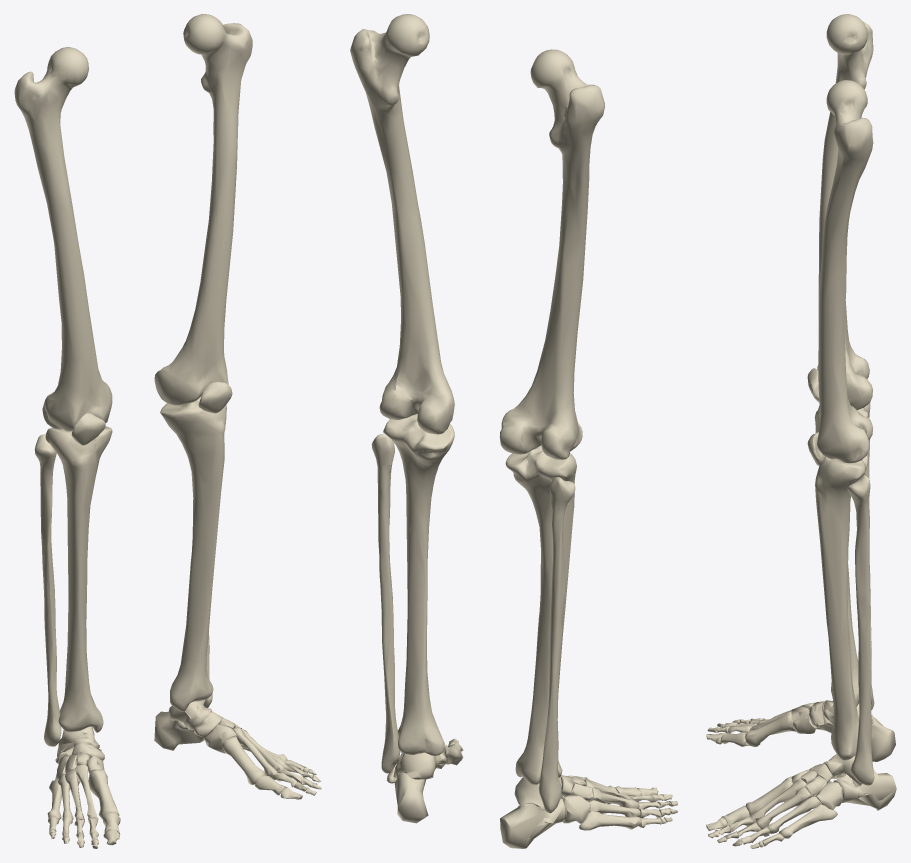
The model's file is lower-limb-mobile.glb.
3 renders of one model, left to right at view 1: azimuth 30°, elevation 25°; view 2: azimuth 150°, elevation 25°; view 3: azimuth 270°, elevation 25°, orthographic. The views are drawn at different scales.
Parts seen in each view (by area): view 1: bp3d.FMA24475, bp3d.FMA24474, bp3d.FMA24478, bp3d.FMA24477, bp3d.FMA24491, bp3d.FMA24492, bp3d.FMA24480, bp3d.FMA24493, bp3d.FMA24487, bp3d.FMA24486; view 2: bp3d.FMA24475, bp3d.FMA24474, bp3d.FMA24478, bp3d.FMA24477, bp3d.FMA24491, bp3d.FMA24480, bp3d.FMA24481, bp3d.FMA24492, bp3d.FMA24493; view 3: bp3d.FMA24475, bp3d.FMA24478, bp3d.FMA24474, bp3d.FMA24491, bp3d.FMA24481, bp3d.FMA24492, bp3d.FMA24493, bp3d.FMA24477, bp3d.FMA24480.
Part boxes in pixels (x1,y1,x2,y2): bp3d.FMA24475: (154,14,252,405); bp3d.FMA24474: (14,47,112,431); bp3d.FMA24478: (160,396,226,711); bp3d.FMA24477: (45,426,112,732); bp3d.FMA24491: (55,699,241,779); bp3d.FMA24492: (47,726,287,821); bp3d.FMA24480: (34,434,61,746); bp3d.FMA24493: (48,760,321,848); bp3d.FMA24487: (198,382,232,413); bp3d.FMA24486: (71,413,105,445); bp3d.FMA24475: (350,14,454,434); bp3d.FMA24474: (499,49,604,459); bp3d.FMA24478: (383,414,454,755); bp3d.FMA24477: (505,446,576,784); bp3d.FMA24491: (393,748,593,848); bp3d.FMA24480: (539,477,575,813); bp3d.FMA24481: (371,434,400,773); bp3d.FMA24492: (386,744,641,830); bp3d.FMA24493: (401,738,677,827); bp3d.FMA24475: (817,80,873,463); bp3d.FMA24478: (815,455,868,760); bp3d.FMA24474: (817,14,873,410); bp3d.FMA24491: (791,700,896,810); bp3d.FMA24481: (847,475,874,785); bp3d.FMA24492: (745,705,837,838); bp3d.FMA24493: (706,718,784,848); bp3d.FMA24477: (814,405,870,706); bp3d.FMA24480: (856,402,874,709).
Bounding box in the file's own units: 0.3389 × 0.905 × 0.2123.
